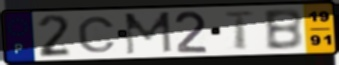2: (36, 13, 73, 58), (174, 10, 209, 54)
B: (261, 7, 305, 52)
C: (75, 15, 118, 54)
M: (123, 10, 175, 57)
T: (222, 10, 258, 51)
